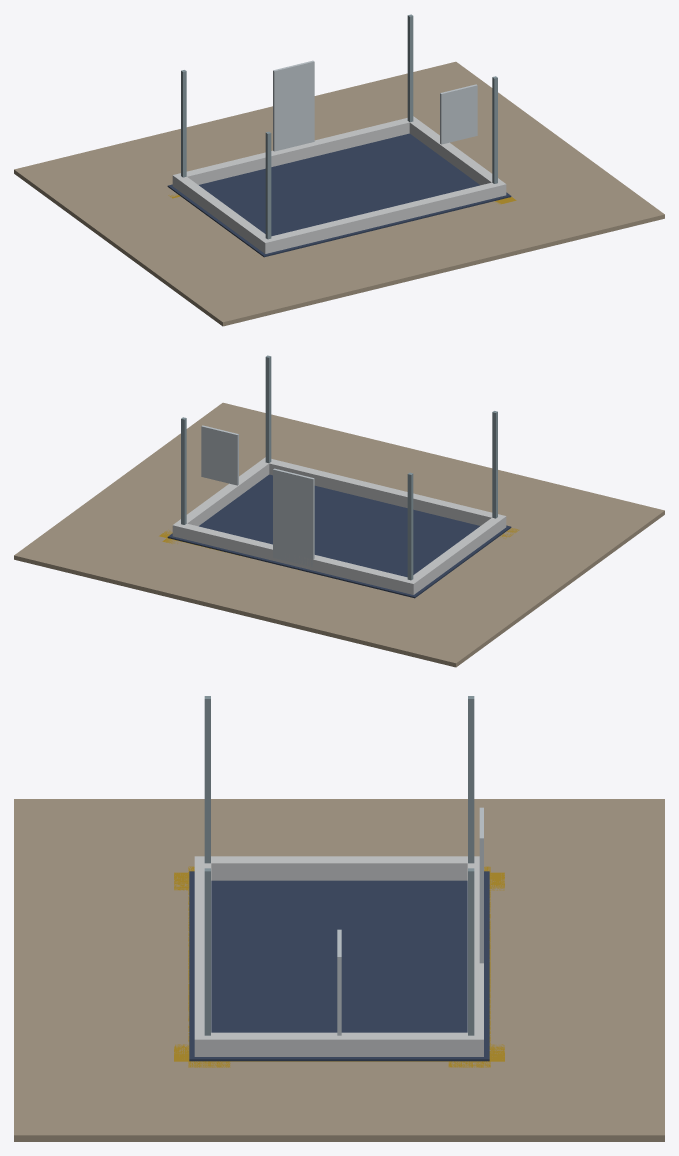
File: stage_07_openings.glb
3 views of the same model, one above another, from view 1: azimuth 30°, elevation 25°; view 2: azimuth 150°, elevation 25°; view 3: azimuth 270°, elevation 25° (orthographic). The views are drawn at different scales.
Parts seen in each view (by area): view 1: world; view 2: world; view 3: world.
Boxes of the visible parts, x1,y1,x2,y2 form: world: (14,14,664,326); world: (14,355,664,667); world: (14,696,664,1141).
Bounding box in the file's own units: 11 × 3.6 × 9.
